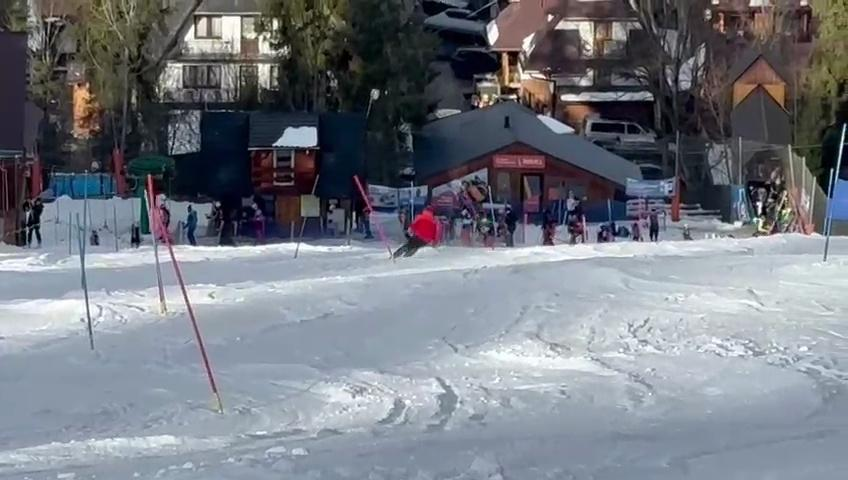gate: (152, 208, 235, 418), (66, 217, 119, 358), (340, 173, 403, 269)
